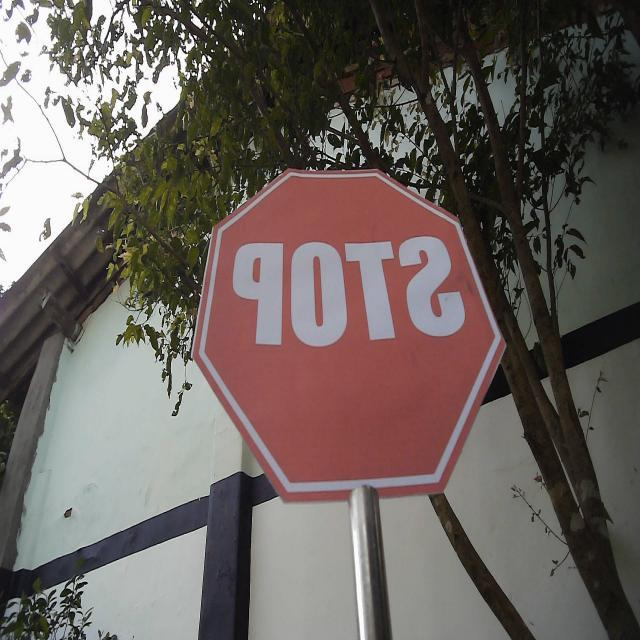stop: (188, 163, 510, 509)
